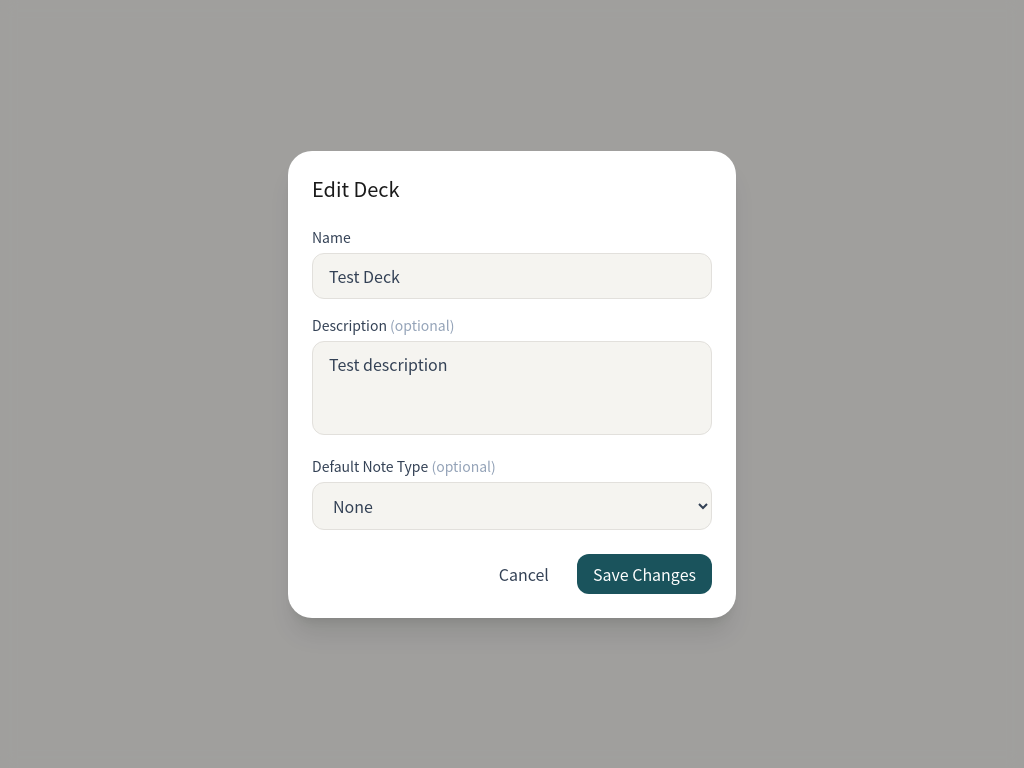
Test: EditDeckModal › shows loading state during submission
Click the button "Save Changes": (644, 574) [577, 554, 712, 594]
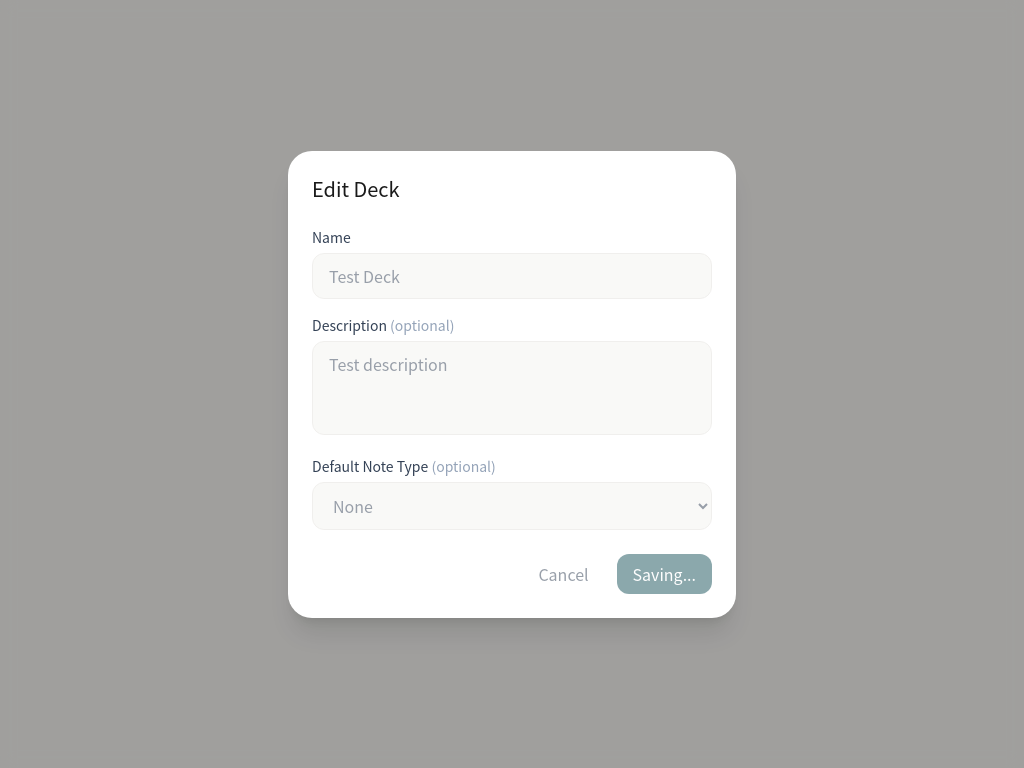
Check: the button "Saving..." is disabled, box [617, 554, 712, 594]
Check: the button "Cancel" is disabled, box [522, 554, 605, 594]
Check: the field labelled "Name" is disabled, box [312, 252, 712, 298]
